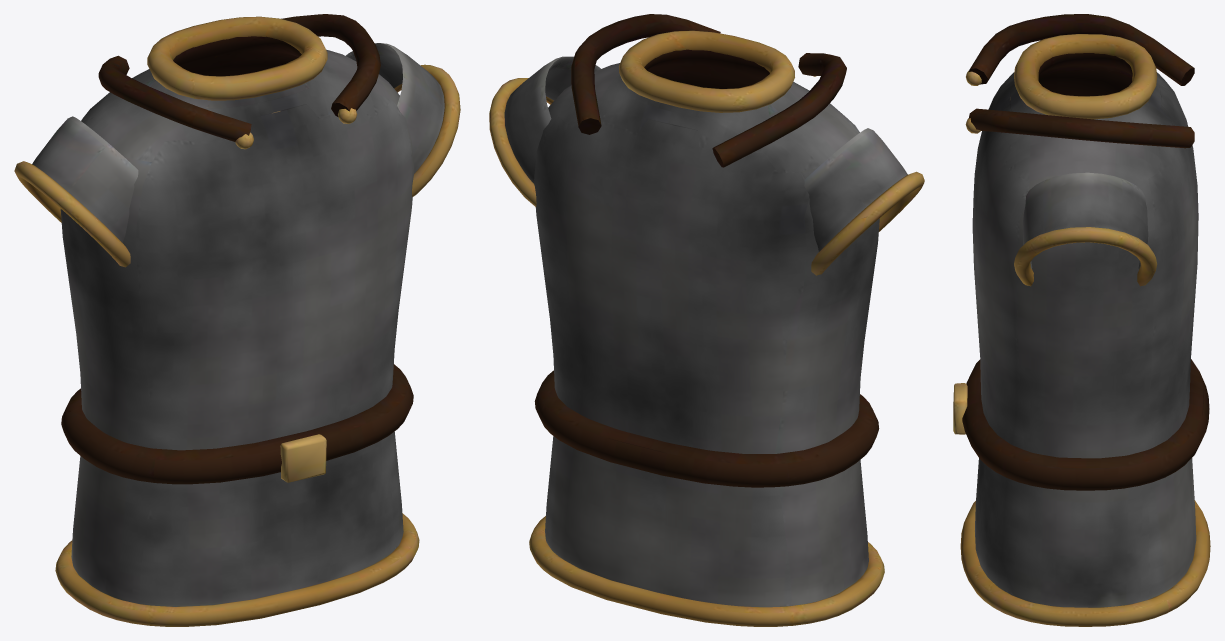
The model's file is scale_mail.glb.
The picture shows the model from 3 angles, left to right: view 1: azimuth 30°, elevation 25°; view 2: azimuth 150°, elevation 25°; view 3: azimuth 270°, elevation 25°; orthographic projection. The views are drawn at different scales.
Visible parts, largest first — view 1: scale_mail; view 2: scale_mail; view 3: scale_mail.
Part boxes in pixels (<box>): scale_mail: <box>14,14,460,626</box>; scale_mail: <box>489,14,924,626</box>; scale_mail: <box>953,14,1210,626</box>.
Bounding box in the file's own units: 0.4475 × 0.5281 × 0.251.
1 material, 1 textured.
